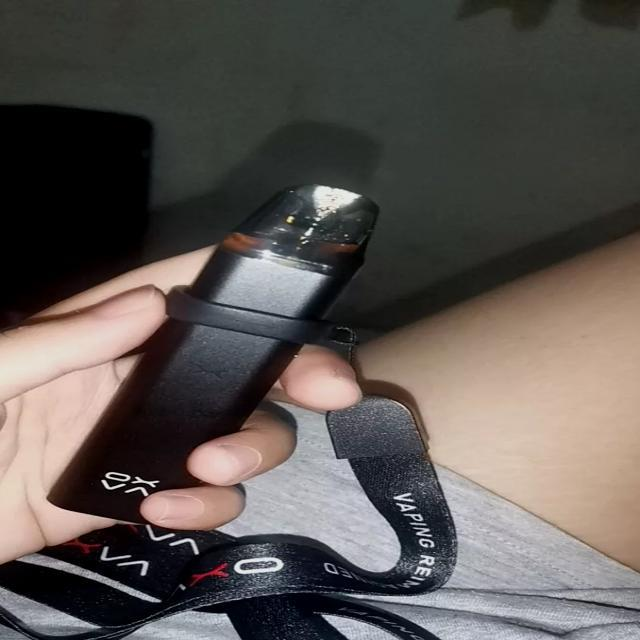Hazard: (42, 186, 382, 524)
